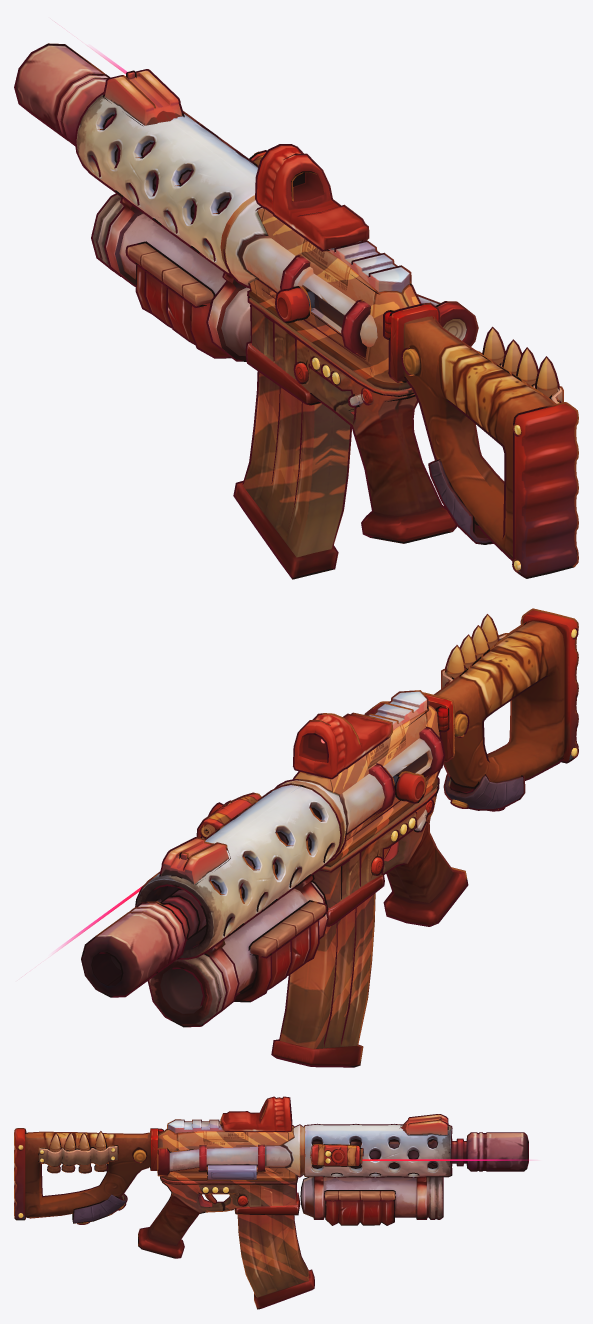
The model's file is cartoon_rifle.glb.
The picture shows the model from 3 angles, top to bottom: view 1: azimuth 30°, elevation 25°; view 2: azimuth 150°, elevation 25°; view 3: azimuth 270°, elevation 25°; orthographic projection. The views are drawn at different scales.
Parts seen in each view (by area): view 1: guN_0, ChellShading_1; view 2: guN_0, ChellShading_1; view 3: guN_0, ChellShading_1.
Part boxes in pixels (x1,y1,x2,y2): guN_0: (16, 45, 576, 577); ChellShading_1: (14, 43, 578, 579); guN_0: (55, 610, 577, 1065); ChellShading_1: (81, 608, 578, 1067); guN_0: (15, 1097, 530, 1308); ChellShading_1: (14, 1096, 528, 1309).
Size of what is drawn, in the model's own units: 2.34 by 6.95 by 17.25.
2 materials, 2 textured.
